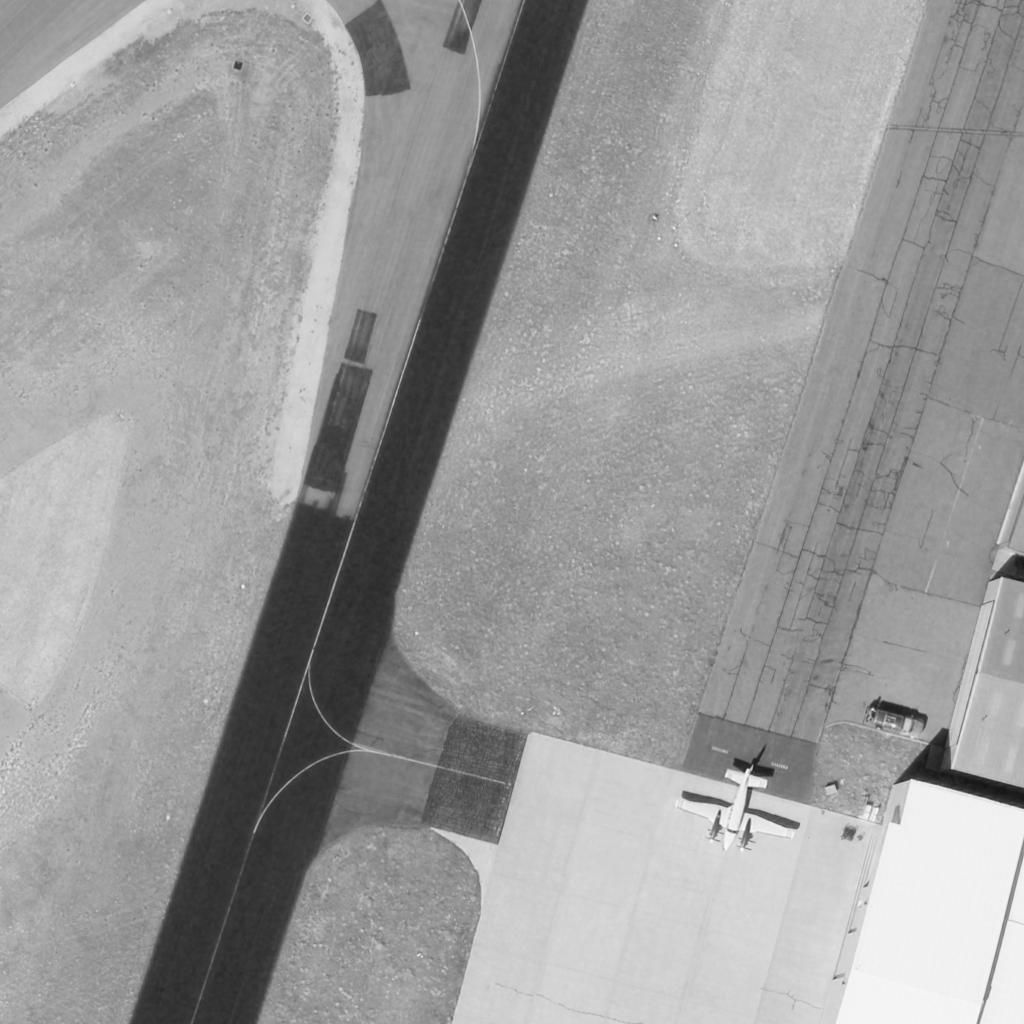vehicle: (858, 707, 928, 743)
